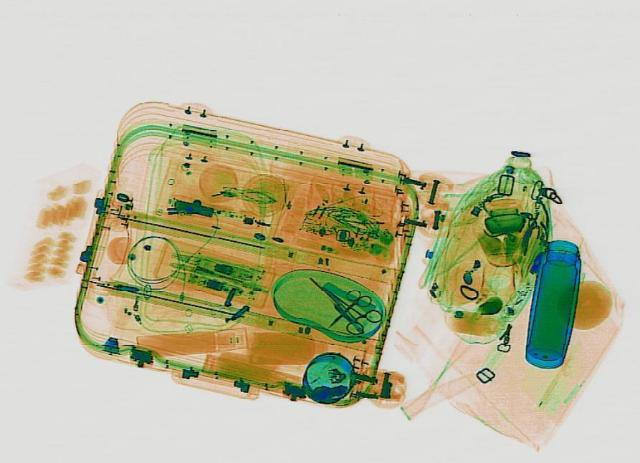Scissors: (292, 268, 386, 334), (312, 284, 376, 330)
